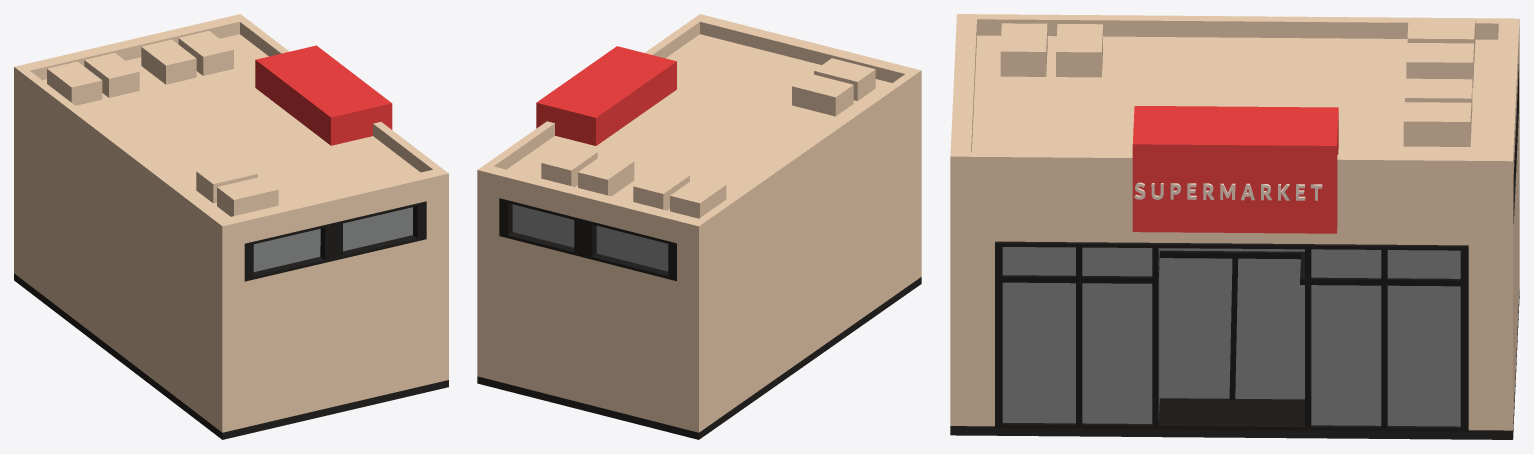
File: city_building-6.glb
3 renders of one model, left to right at view 1: azimuth 30°, elevation 25°; view 2: azimuth 150°, elevation 25°; view 3: azimuth 270°, elevation 25°, orthographic. The views are drawn at different scales.
Visible parts, largest first — view 1: Object_107; view 2: Object_107; view 3: Object_107.
Boxes of the visible parts, box(x1,y1,x2,y2) form: Object_107: box(14, 14, 448, 439); Object_107: box(477, 14, 921, 439); Object_107: box(950, 14, 1519, 439).
Size of the model in its own units: 10.64 by 9.65 by 16.63.
Materials: 1 (1 with a texture image).
